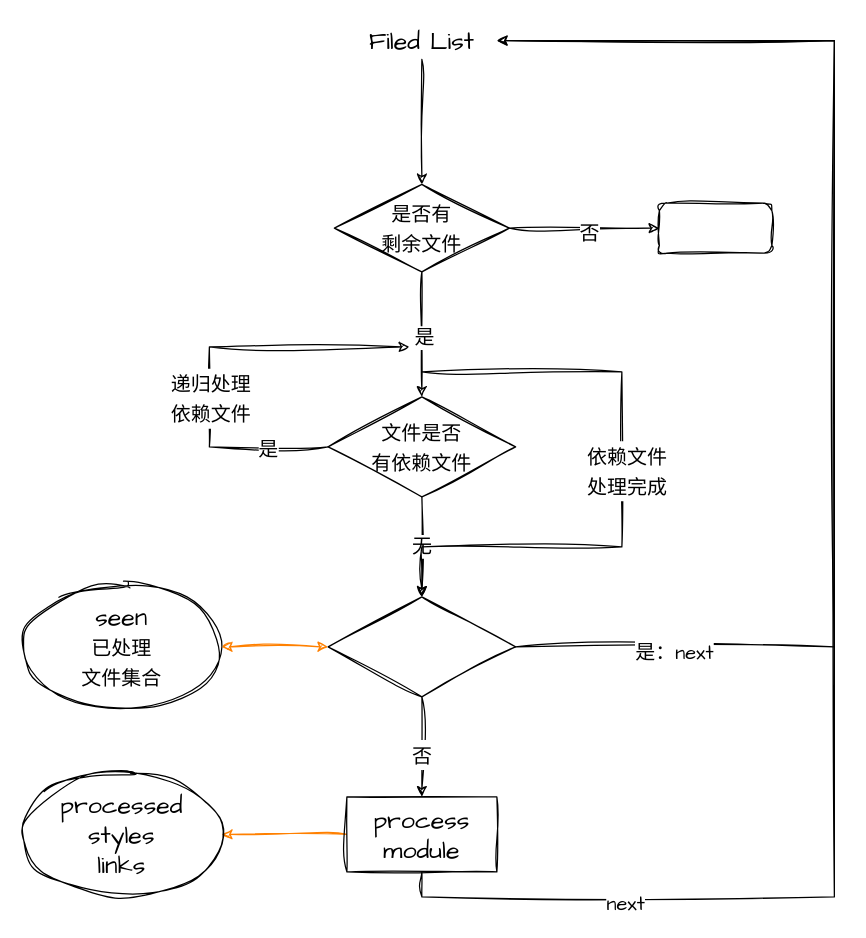
Some shapes in this 866 by 938 pixel diagram are drawn without their labels. The box of each missing label's shape, as (x1, y1, x2, y2) in pixels:
文件是否已处理: (327, 596, 516, 697)
结束: (658, 202, 772, 253)
